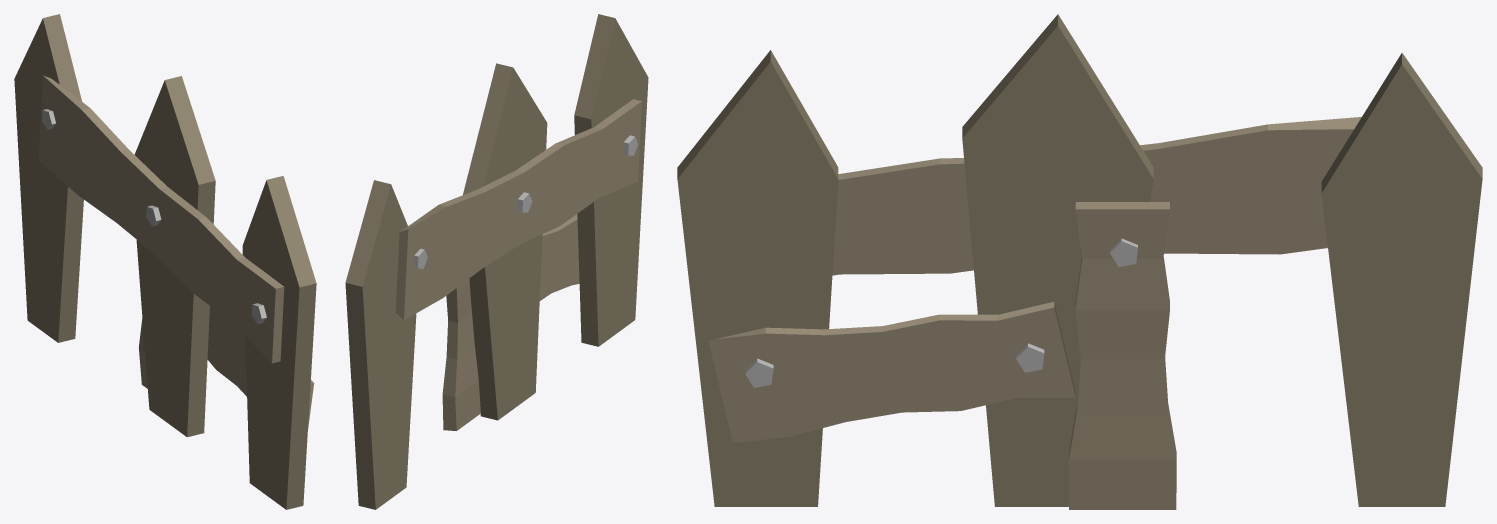
Rendered from Fence_Quest_Unblocked.fbx.
3 views of the same model, side by side, from view 1: azimuth 30°, elevation 25°; view 2: azimuth 150°, elevation 25°; view 3: azimuth 270°, elevation 25° (orthographic). The views are drawn at different scales.
Parts seen in each view (by area): view 1: Fence_quest_unlocked; view 2: Fence_quest_unlocked; view 3: Fence_quest_unlocked.
Part boxes in pixels (x1=…): Fence_quest_unlocked: x1=14, y1=14, x2=316, y2=509; Fence_quest_unlocked: x1=345, y1=14, x2=648, y2=509; Fence_quest_unlocked: x1=677, y1=14, x2=1482, y2=509.
Size of the model in its own units: 0.5274 by 3.81 by 5.78.
